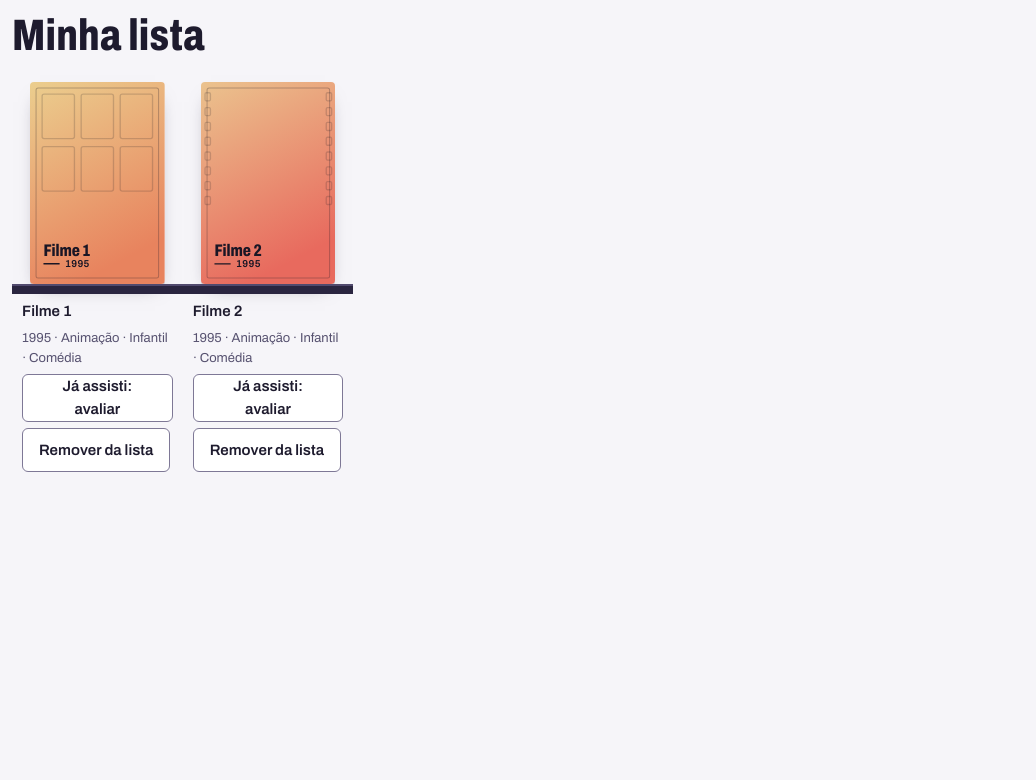
MinhaLista › "Remover da lista" envia DELETE sem corpo e sem Content-Type e o filme sai; Desfazer o traz de volta
The image size is (1036, 780).
Expected: the text "Filme 1" is shown, [22,303,72,319]
Click the 1st button "Remover da lista" at (96, 450), box [22,428,170,472]
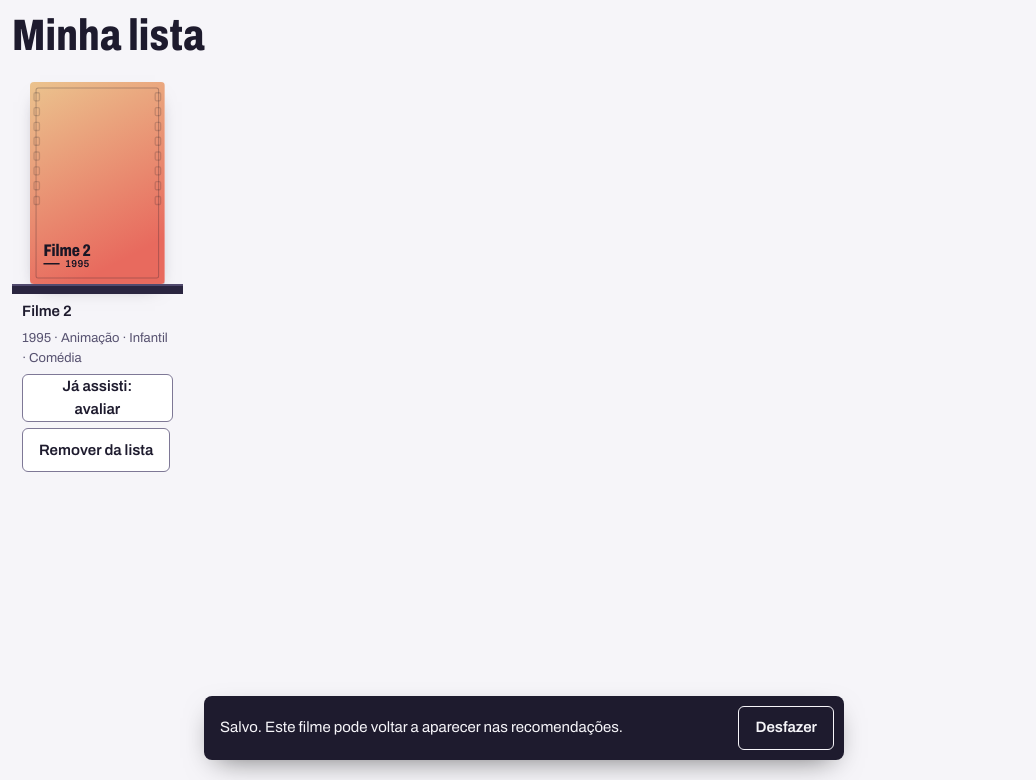
Expected: the text "Filme 2" is shown, [22,303,72,319]
Expected: the link "Filme 1" is gone
Click the button "Desfazer" at (786, 728), box [738,706,834,750]
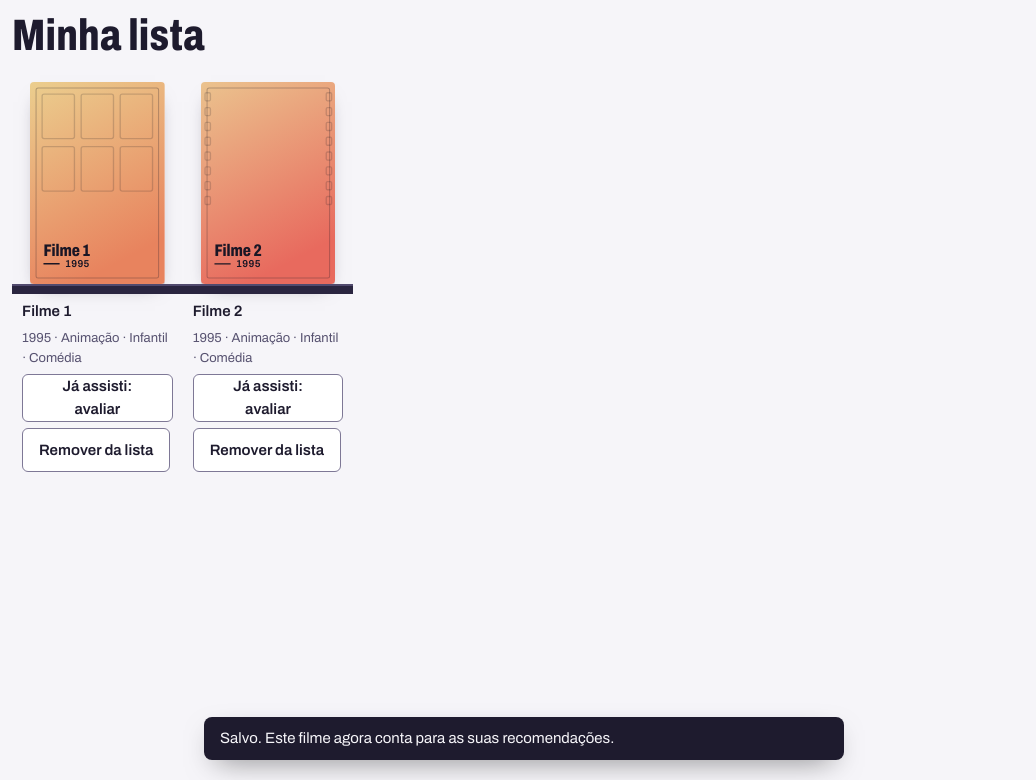
Expected: the text "Filme 1" is shown, [22,303,72,319]
